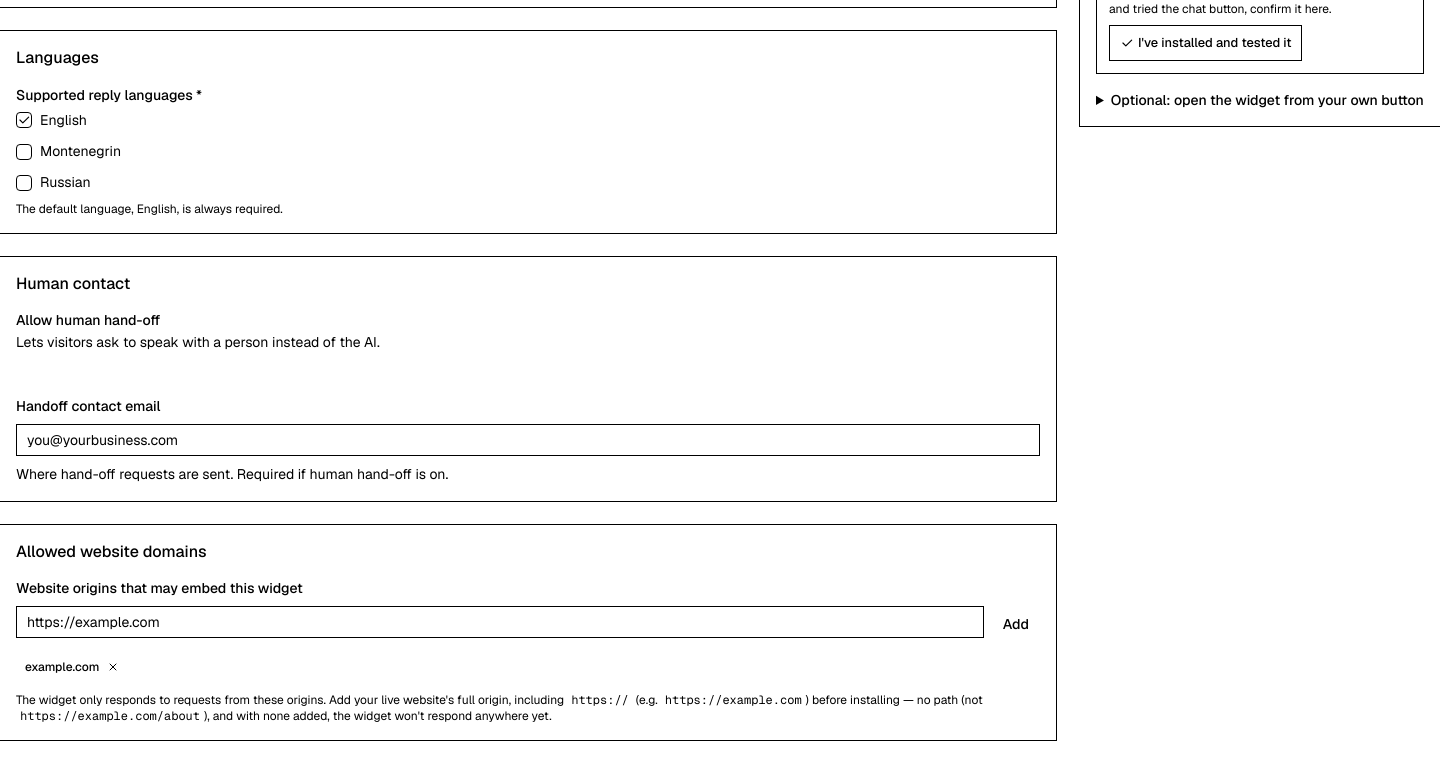
Test: WidgetSettingsForm — allowed website origins › rejects an origin with a path immediately on add, with a specific message, and never adds it as a badge
This screenshot has width=1440, height=765.
(page scrolled)
Type "https://example.com/about-us" into the field named "Add a website origins that may embed this widget".
click(500, 622); type("https://example.com/about-us")  # box [16,606,984,638]
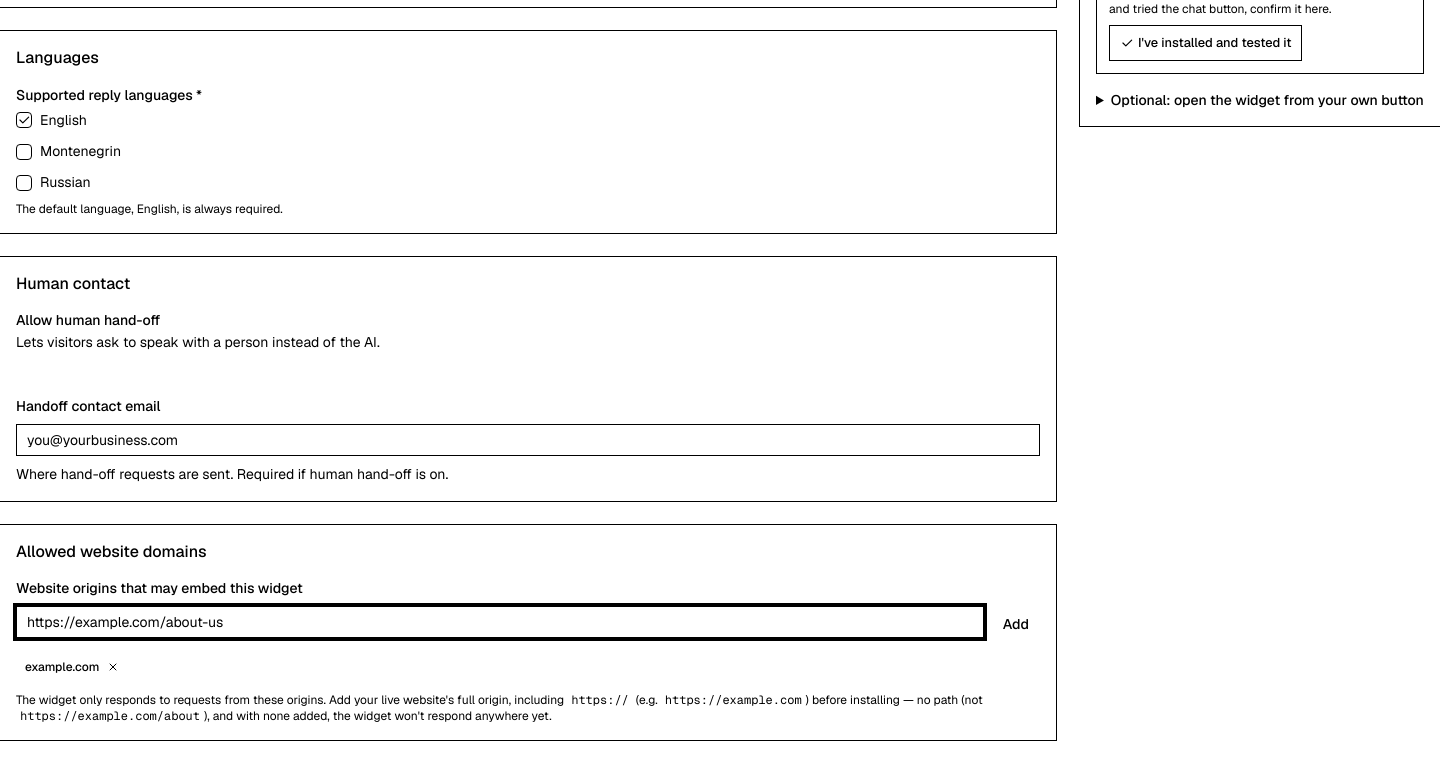
Click the button "Add".
click(1016, 624)  # box [992,606,1040,642]
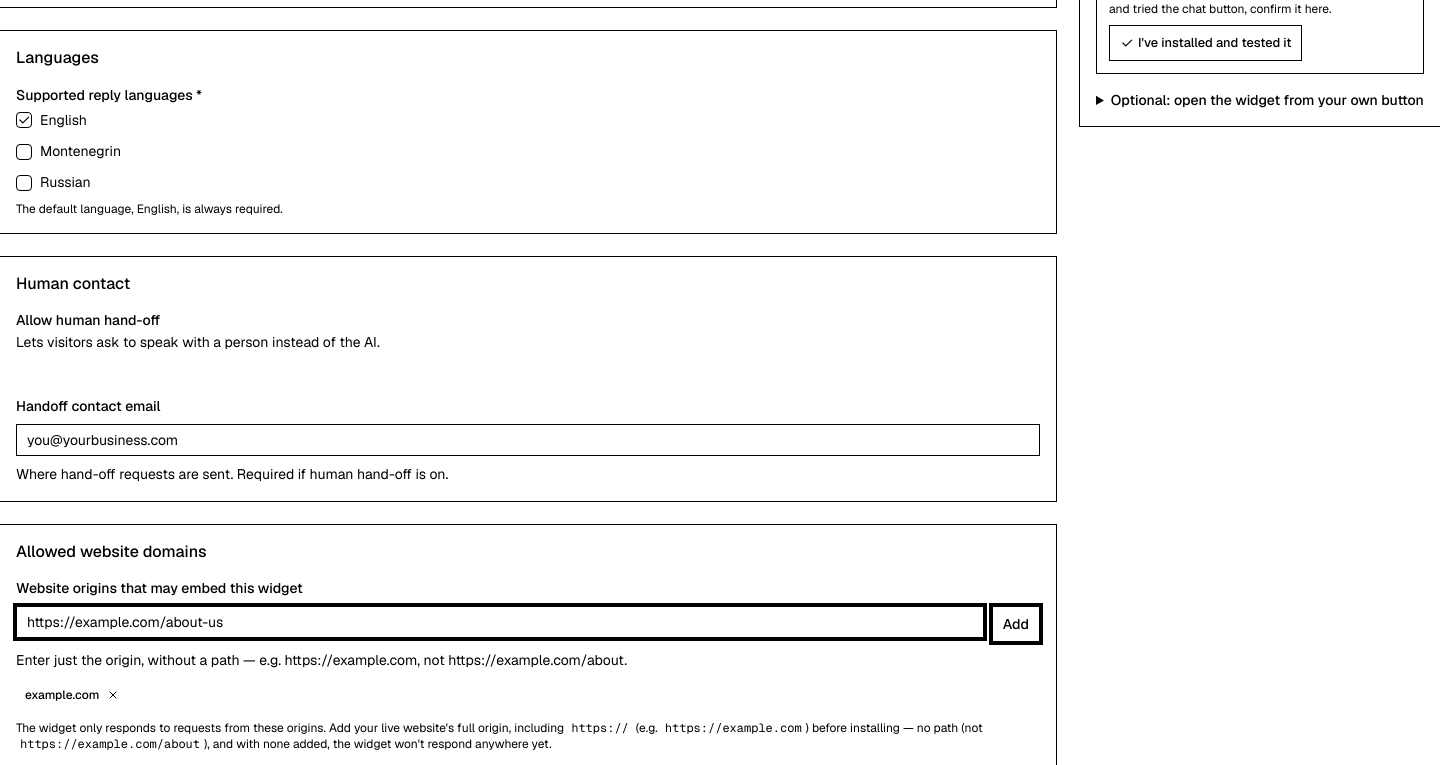
Now the text "Enter just the origin, without a path — e.g. https://example.com, not https://example.com/about." is shown, box [16,651,627,669]
